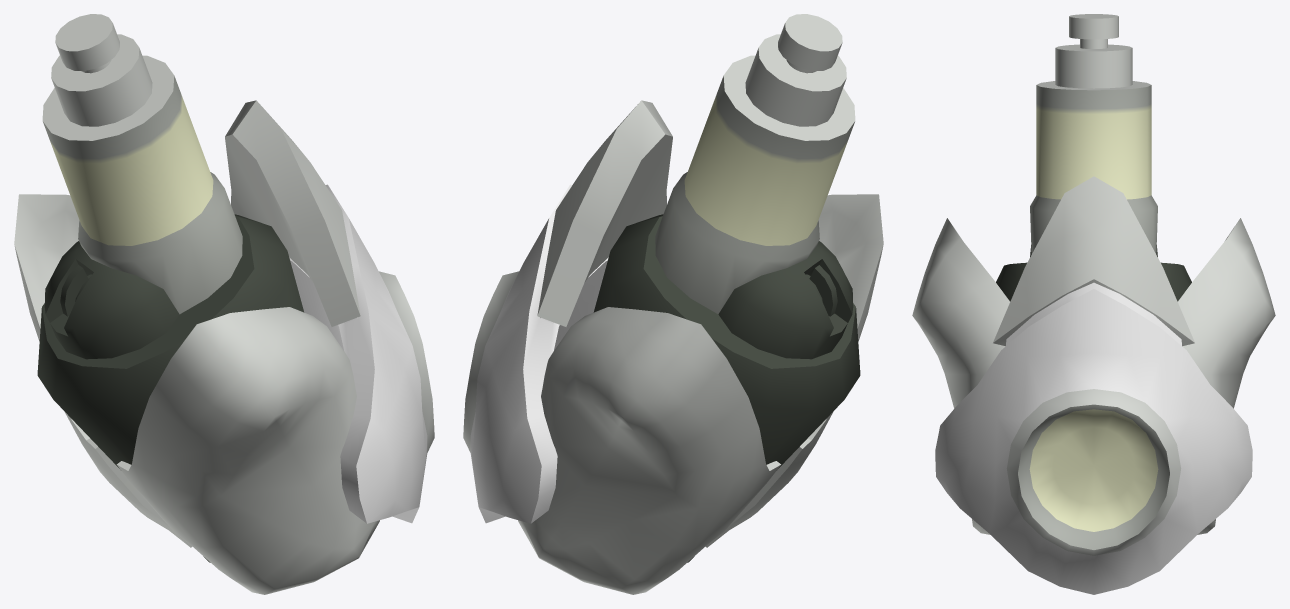
File: ralph_underarm.fbx
3 views of the same model, side by side, from view 1: azimuth 30°, elevation 25°; view 2: azimuth 150°, elevation 25°; view 3: azimuth 270°, elevation 25° (orthographic). The views are drawn at different scales.
Visible parts, largest first — view 1: underarm; view 2: underarm; view 3: underarm.
Part boxes in pixels (box(x1,y1,x2,y2)): underarm: box(14, 14, 434, 594); underarm: box(463, 14, 883, 594); underarm: box(912, 14, 1275, 594).
Size of the model in its own units: 163 by 243 by 170.
